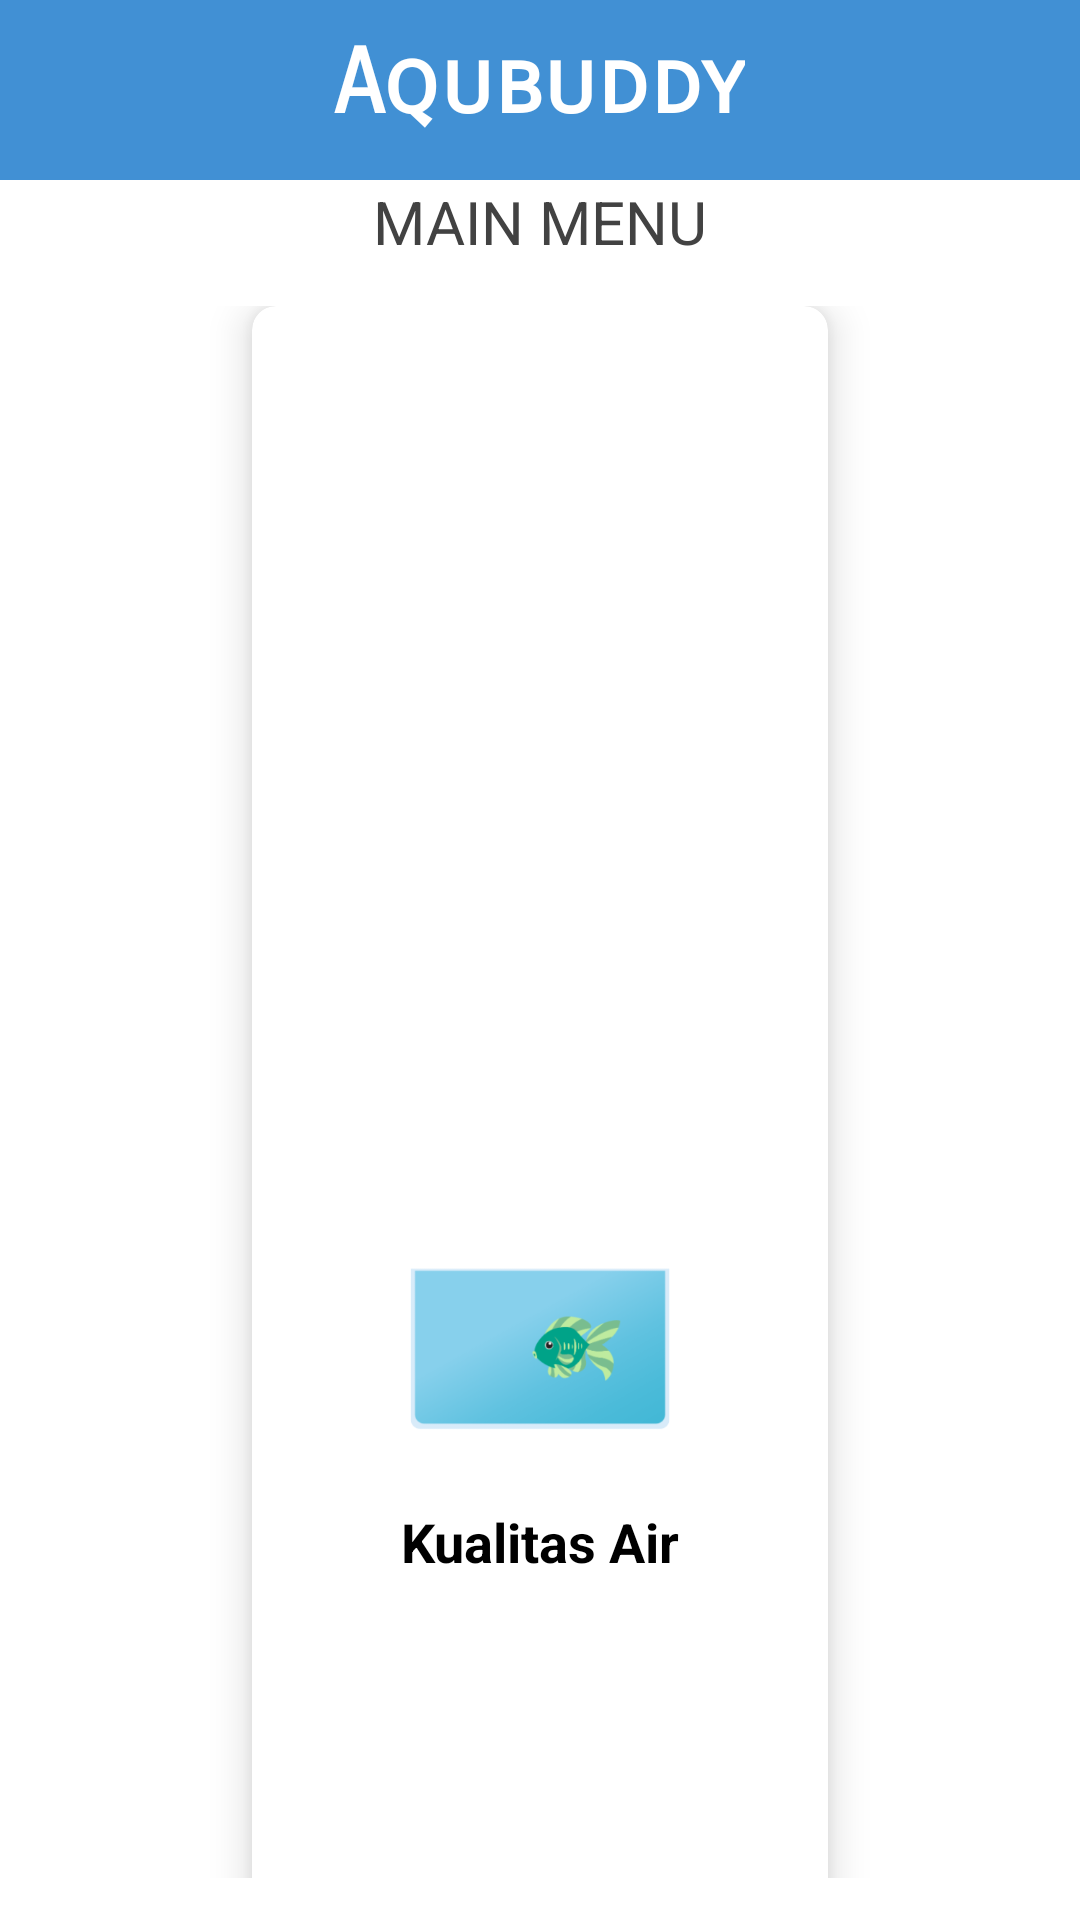

Screen size 1080 x 1920. Icon name, then its box in pixels as detection(x1, y1, x2, y2):
akuarium: detection(411, 1269, 669, 1429)
